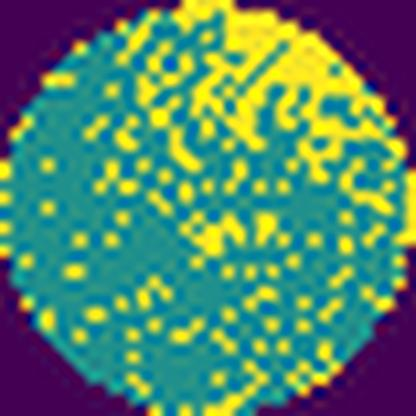Edge-Loc: (166, 0, 416, 161)
